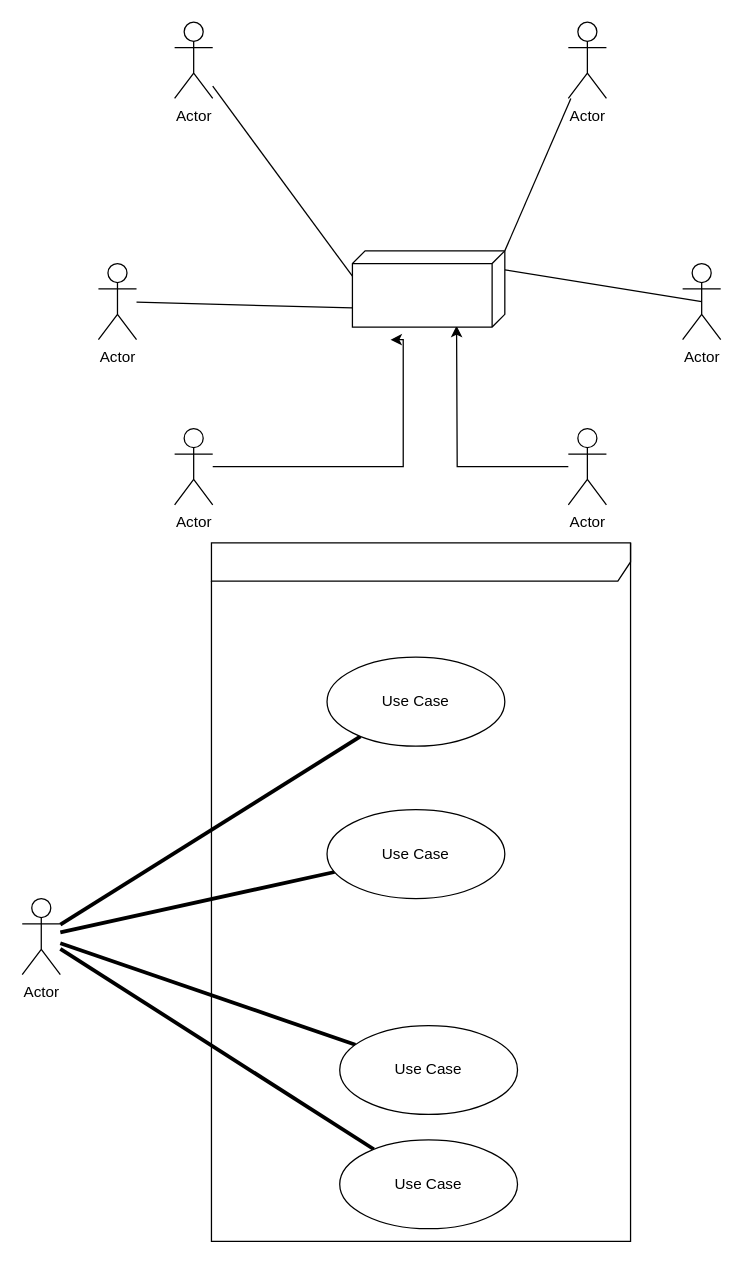
The diagram is 743 pixels wide and 1264 high, and some of its shapes have lost their labels. Here are the shapes that lost their labels. From the top down, the box of each, then its label:
(351, 250, 505, 327): Block
(210, 542, 631, 1241): frame
